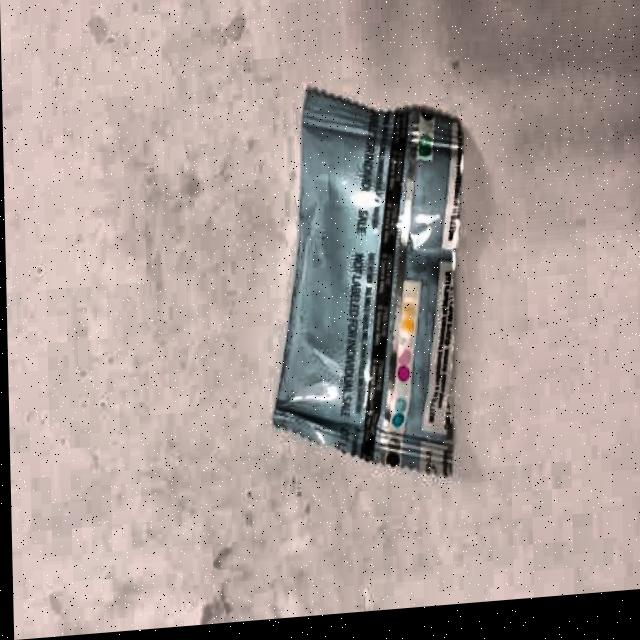plastic: (252, 48, 503, 527)
